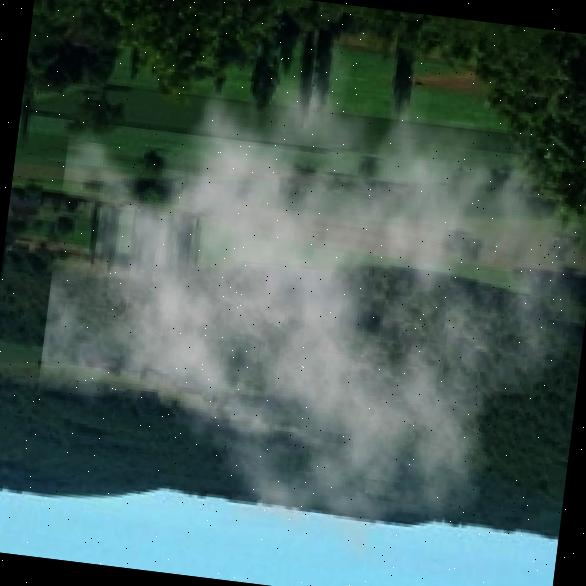smoke: (21, 0, 586, 586)
